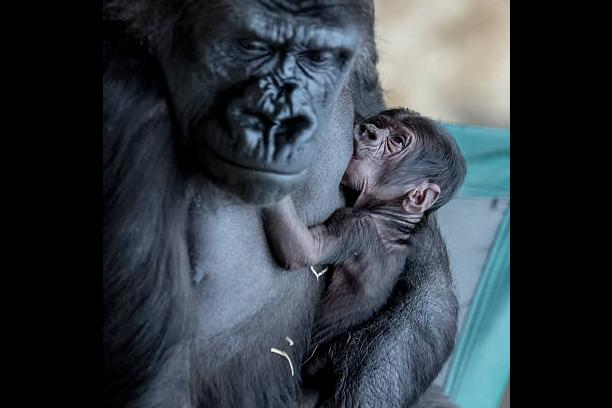gorille_Autres: (102, 0, 377, 408)
